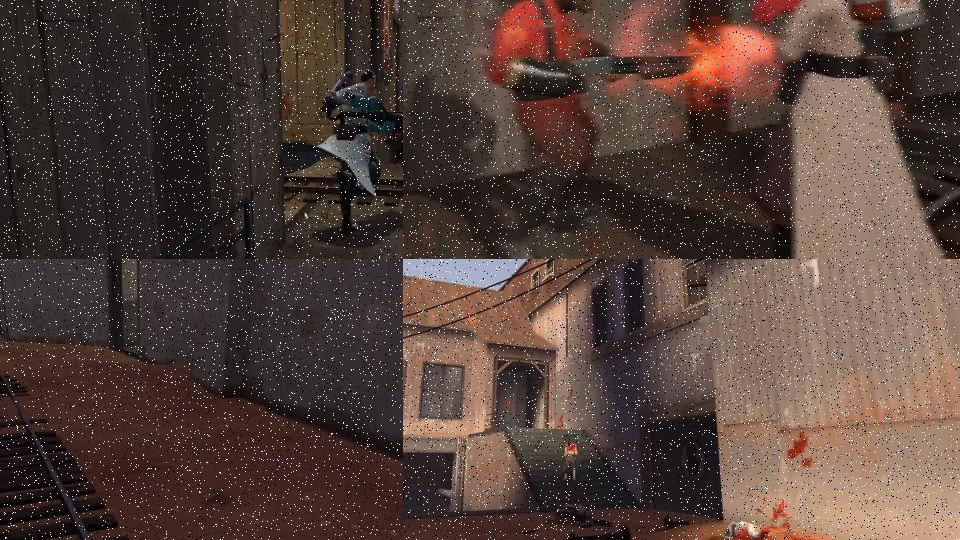Enemy: (469, 0, 714, 259), (738, 0, 960, 259), (285, 69, 403, 236), (555, 504, 614, 528), (562, 438, 578, 482)
